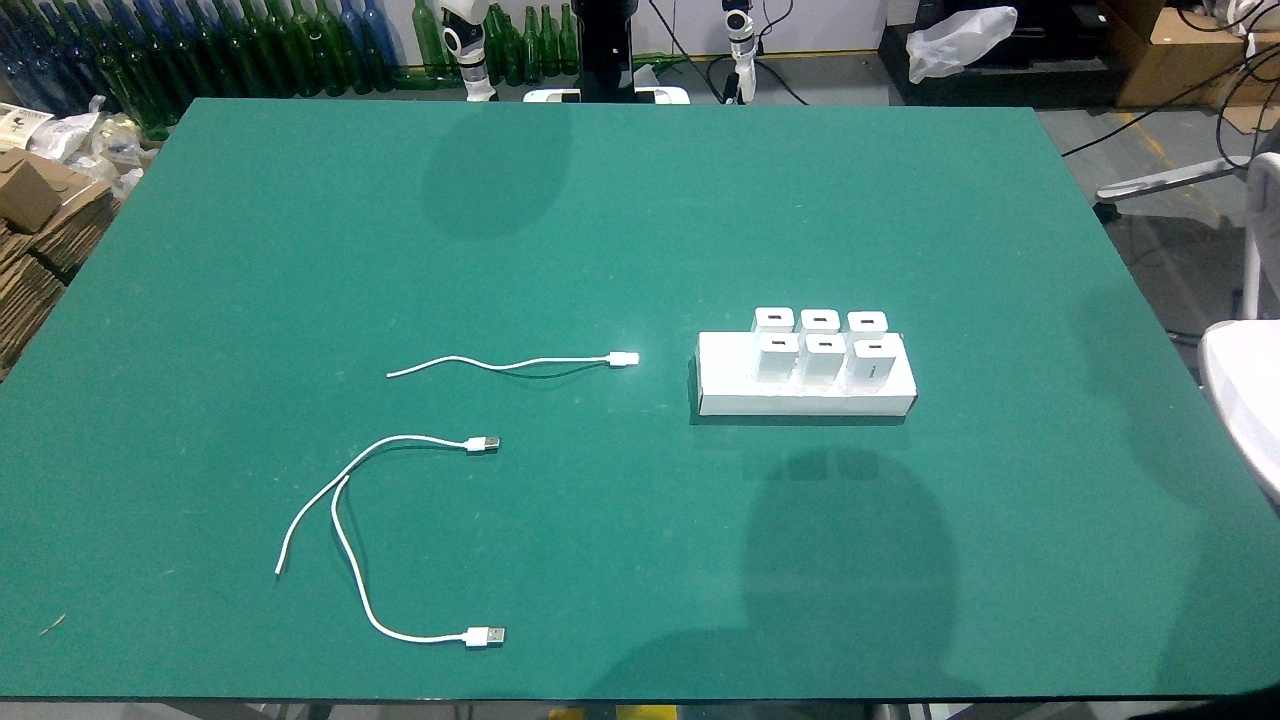usb_a_plug: (451, 627, 505, 647), (455, 436, 501, 452), (596, 352, 640, 366)
